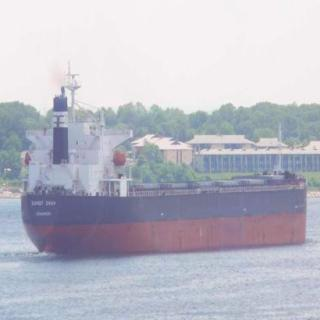Bulk Carrier: (10, 154, 308, 243)
